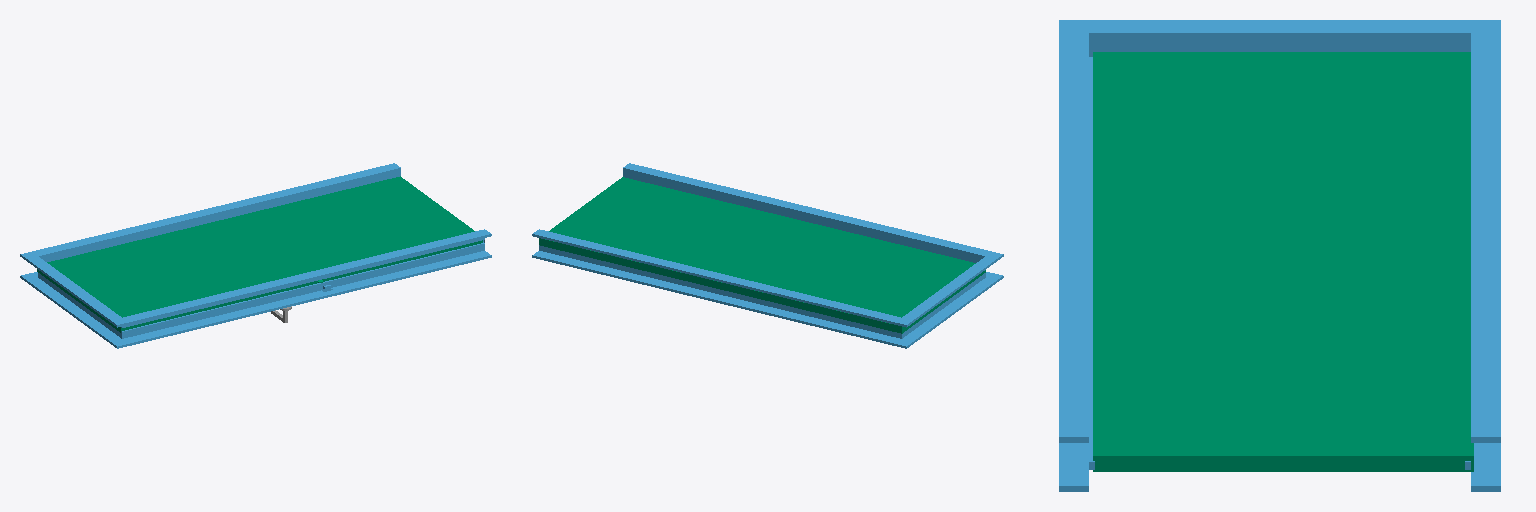
robot.urdf — right-pull-door:
<?xml version="1.0" ?>
<robot name="right-pull-door">
	<link name="base"/>
	<link name="link_0">
		<visual name="out-frame">
			<origin xyz="0 0 0"/>
			<geometry>
				<mesh filename="texture_dae/frame.dae" scale="1.1401096993775002 1.1401096993775002 1.1401096993775002"/>
			</geometry>
		</visual>
		<collision>
			<origin xyz="0 0 0"/>
			<geometry>
				<mesh filename="texture_dae/frame.dae" scale="1.1401096993775002 1.1401096993775002 1.1401096993775002"/>
			</geometry>
		</collision>
	</link>
	<joint name="joint_0" type="fixed">
		<origin rpy="1.570796326794897 0 -1.570796326794897" xyz="0 0 0"/>
		<child link="link_0"/>
		<parent link="base"/>
	</joint>
	<link name="link_1">
		<visual name="surf-board">
			<origin xyz="0.36185411661185635 -0.8678575135706952 0"/>
			<geometry>
				<mesh filename="texture_dae/board.dae" scale="1.1401096993775002 1.1401096993775002 1.1401096993775002"/>
			</geometry>
		</visual>
		<collision>
			<origin xyz="0.36185411661185635 -0.8678575135706952 0"/>
			<geometry>
				<mesh filename="texture_dae/board.dae" scale="1.1401096993775002 1.1401096993775002 1.1401096993775002"/>
			</geometry>
		</collision>
	</link>
	<joint name="joint_1" type="revolute">
		<origin xyz="-0.36185411661185635 0.8678575135706952 0"/>
		<axis xyz="0 -1 0"/>
		<child link="link_1"/>
		<parent link="link_0"/>
		<limit lower="0" upper="1.5079644737231006"/>
	</joint>
	<link name="link_2">
		<visual name="handle">
			<origin xyz="0 0 0"/>
			<geometry>
				<mesh filename="texture_dae/9960010.dae" scale="1.2842489731592692 1.2842489731592692 1.2842489731592692"/>
			</geometry>
		</visual>
		<collision>
			<origin xyz="0 0 0"/>
			<geometry>
				<mesh filename="texture_dae/9960010.dae" scale="1.2842489731592692 1.2842489731592692 1.2842489731592692"/>
			</geometry>
		</collision>
	</link>
	<joint name="joint_2" type="revolute">
		<origin xyz="0.64286155131 -0.9862201602012457 0.016992455370629916"/>
		<child link="link_2"/>
		<parent link="link_1"/>
		<axis xyz="0 0 1"/>
		<limit lower="0" upper="1.5079644737231006"/>
	</joint>
</robot>

--- Facts derived from the render (not from the file) ---
3 views of the same robot in one strip: view 1: azimuth 30°, elevation 25°; view 2: azimuth 150°, elevation 25°; view 3: azimuth 270°, elevation 25° (orthographic).
Model right-pull-door with 4 links and 3 joints (2 revolute, 1 fixed), rooted at base, posed every joint at zero.
Links seen in each view (by area): view 1: link_1, link_0; view 2: link_1, link_0; view 3: link_1, link_0.
Link boxes in pixels (bbox=[...]): link_1: bbox=[37, 176, 482, 332]; link_0: bbox=[20, 163, 491, 348]; link_1: bbox=[539, 177, 985, 333]; link_0: bbox=[532, 163, 1003, 348]; link_1: bbox=[1093, 52, 1473, 471]; link_0: bbox=[1059, 20, 1500, 491].
Size in the robot's own frame: 1.84 by 0.8261 by 0.2499 metres.
3 mesh visuals loaded from 3 distinct referenced files (3 Collada DAE).
